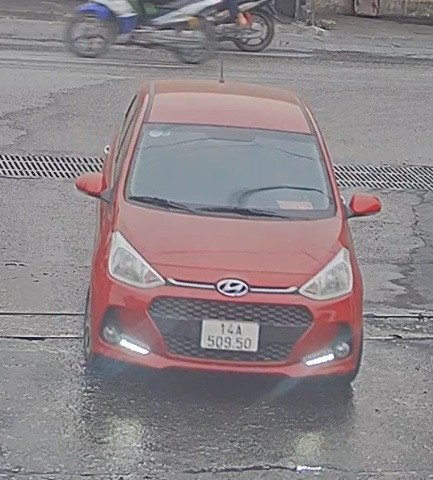vehicle plate: (197, 311, 259, 355)
